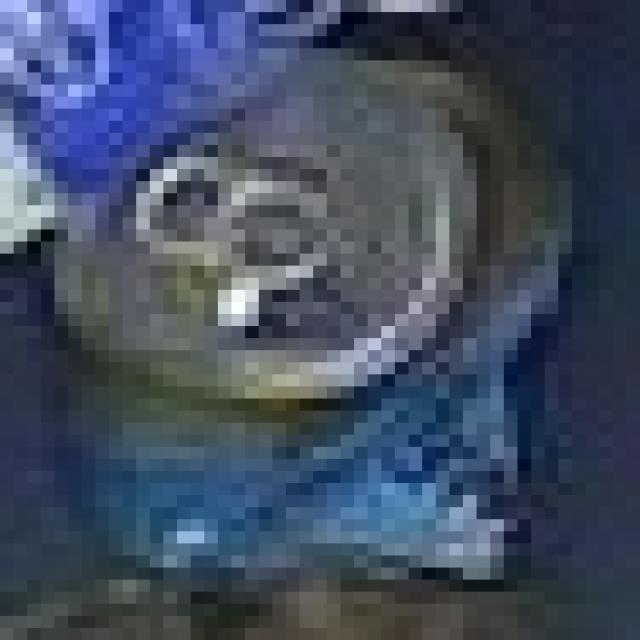litter: (30, 26, 620, 618)
